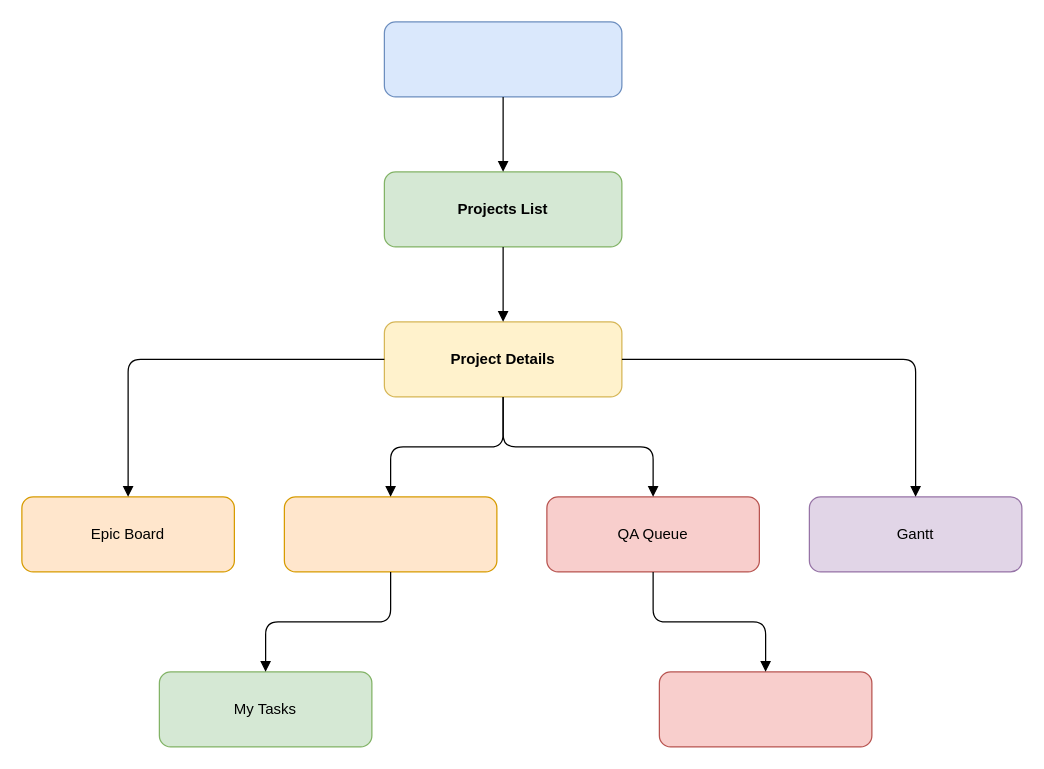
The diagram is 1044 pixels wide and 769 high, and some of its shapes have lost their labels. The centre of each missing label's shape, as x and y in pixels:
"Executive Dashboard" belongs at [502,59].
"QA Team Board" belongs at [765,709].
"Task Board" belongs at [390,534].
